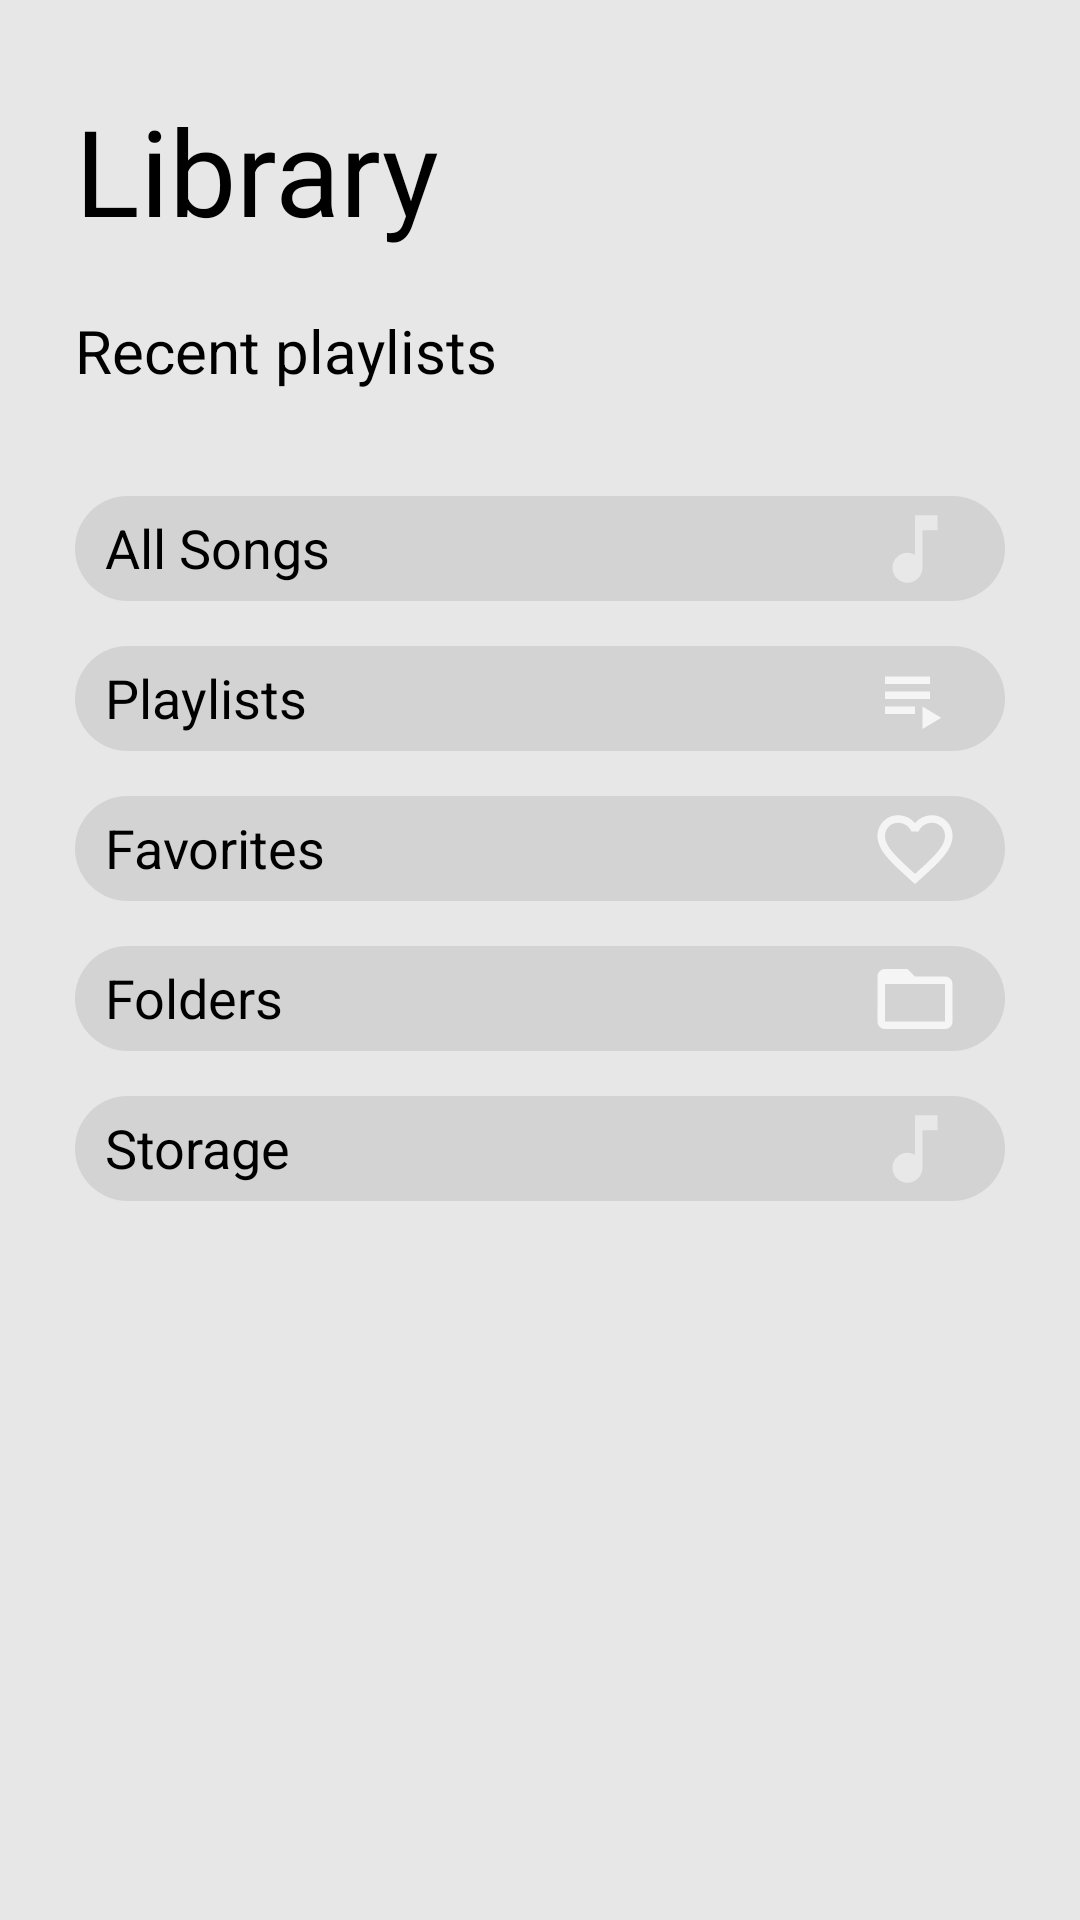

Icon bounding boxes for this 1080 × 1920 phone screenshot, format [x1, y1, x2, y2]:
favorite: [878, 815, 952, 883]
folder: [878, 969, 952, 1029]
playlist: [885, 677, 940, 728]
